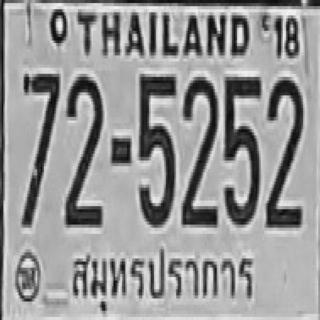N02: (64, 72, 102, 226), (265, 74, 302, 225), (181, 74, 217, 225)
N05: (137, 71, 174, 225), (223, 74, 260, 225)
N07: (21, 71, 58, 225)
P57: (65, 242, 257, 313)
